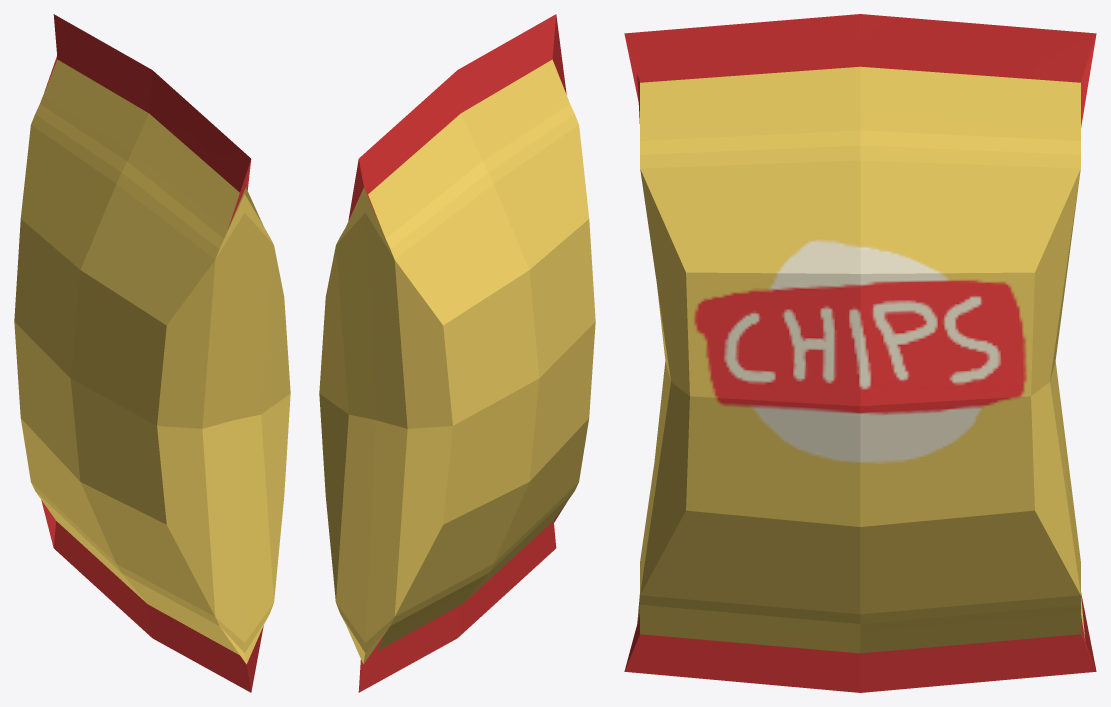
The model's file is chip.fbx.
3 renders of one model, left to right at view 1: azimuth 30°, elevation 25°; view 2: azimuth 150°, elevation 25°; view 3: azimuth 270°, elevation 25°, orthographic. The views are drawn at different scales.
Visible parts, largest first — view 1: Cube; view 2: Cube; view 3: Cube.
Part boxes in pixels (left/top/right/bottom): Cube: left=14, top=14, right=290, bottom=692; Cube: left=319, top=14, right=595, bottom=692; Cube: left=624, top=14, right=1096, bottom=692.
Bounding box in the file's own units: 106 × 351 × 221.
